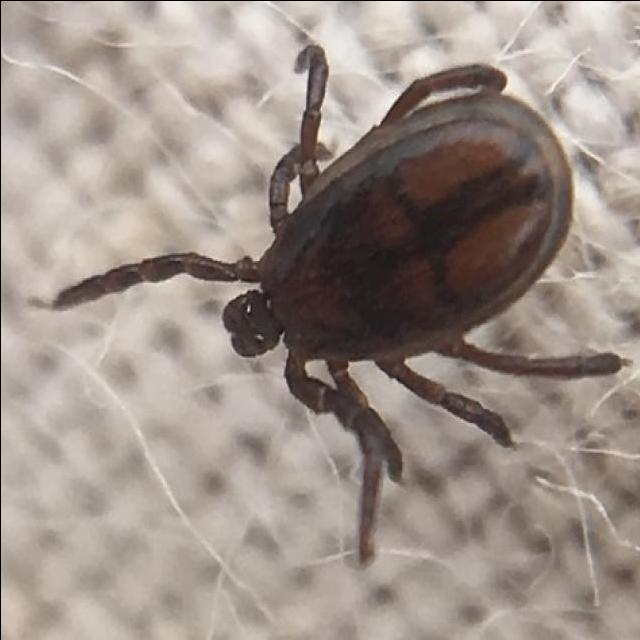Ixodes Ricinus-M: (49, 56, 617, 567)
